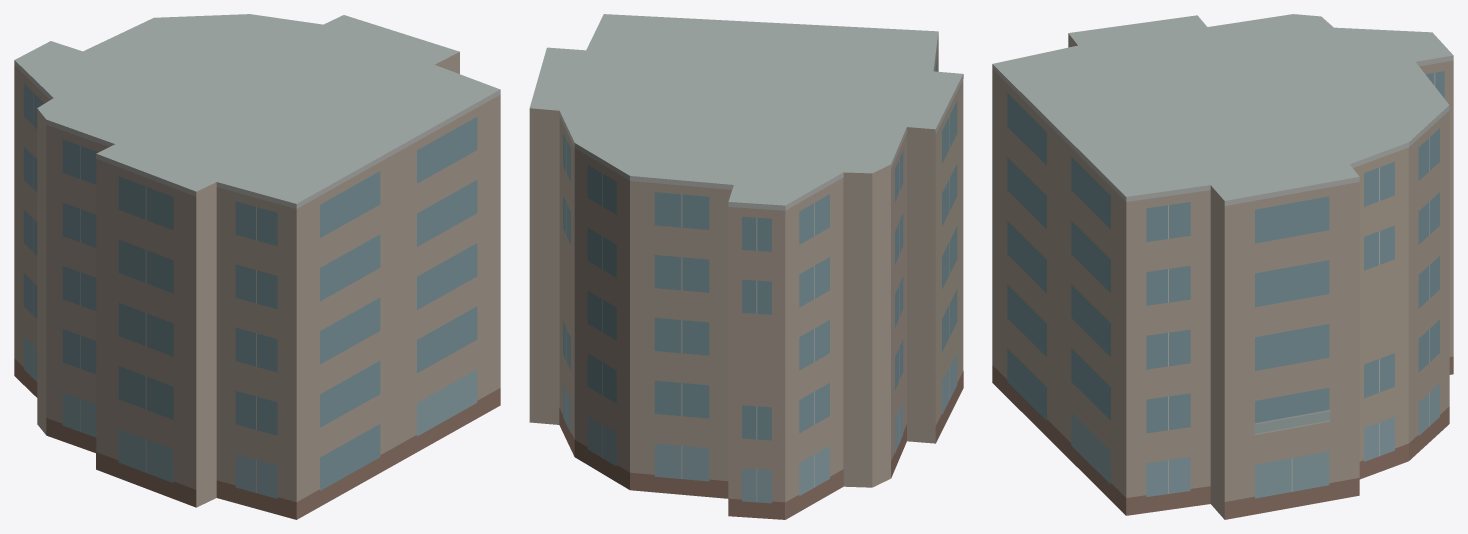
File: survey-upis-32670009.glb
3 renders of one model, left to right at view 1: azimuth 30°, elevation 25°; view 2: azimuth 150°, elevation 25°; view 3: azimuth 270°, elevation 25°, orthographic.
Parts seen in each view (by area): view 1: survey-upis-32670009.tmp; view 2: survey-upis-32670009.tmp; view 3: survey-upis-32670009.tmp.
Part boxes in pixels (left/top/right/bottom): survey-upis-32670009.tmp: left=14, top=14, right=500, bottom=519; survey-upis-32670009.tmp: left=529, top=14, right=963, bottom=519; survey-upis-32670009.tmp: left=992, top=14, right=1453, bottom=519.
Size of the model in its own units: 19.19 by 15.25 by 20.
